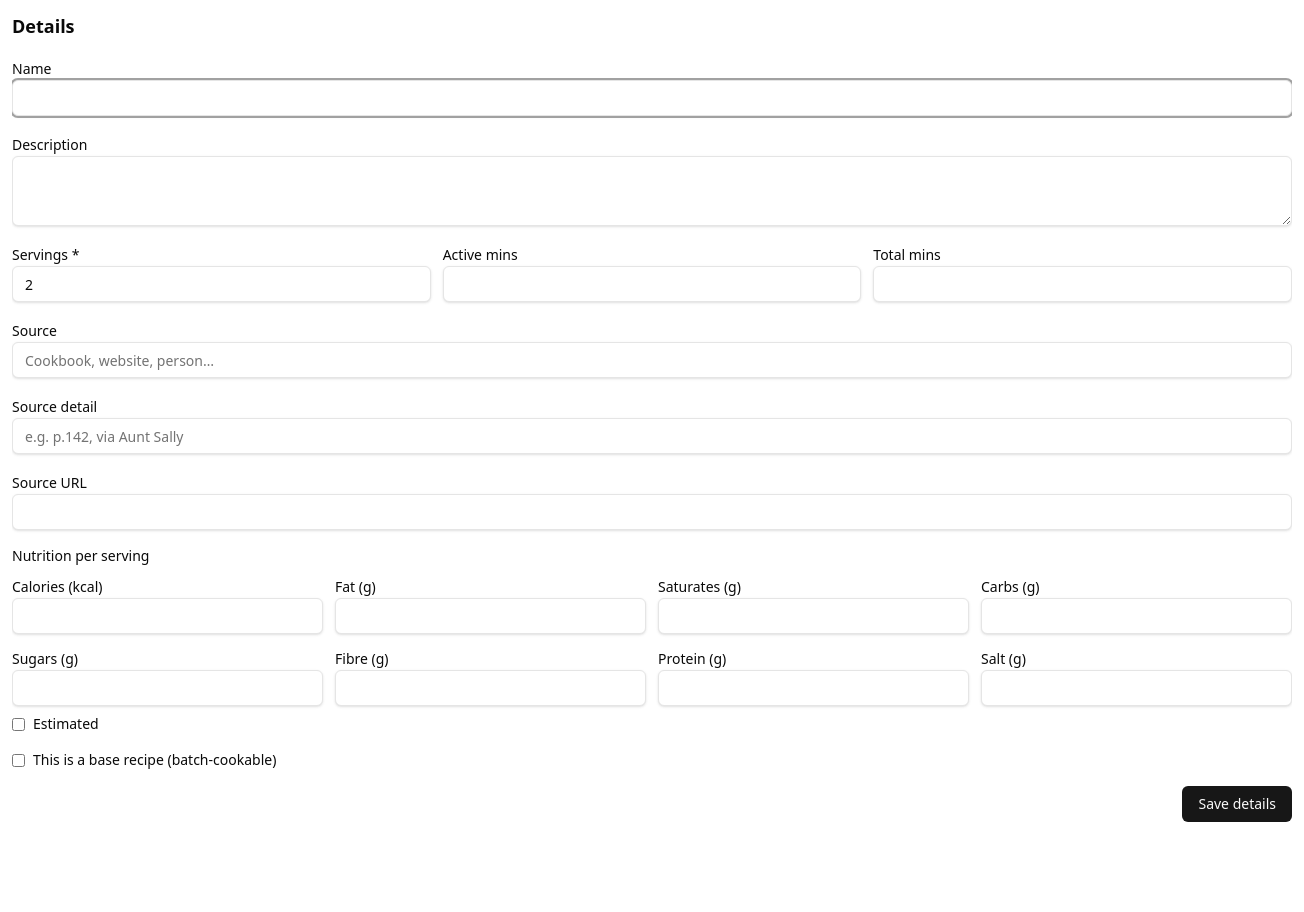
it: HeaderFields › blocks submit when a gram value has more than 2 decimal places
In the field labelled "Name": {"x": 652, "y": 98} [12, 80, 1292, 116], type "Lentil Dal"
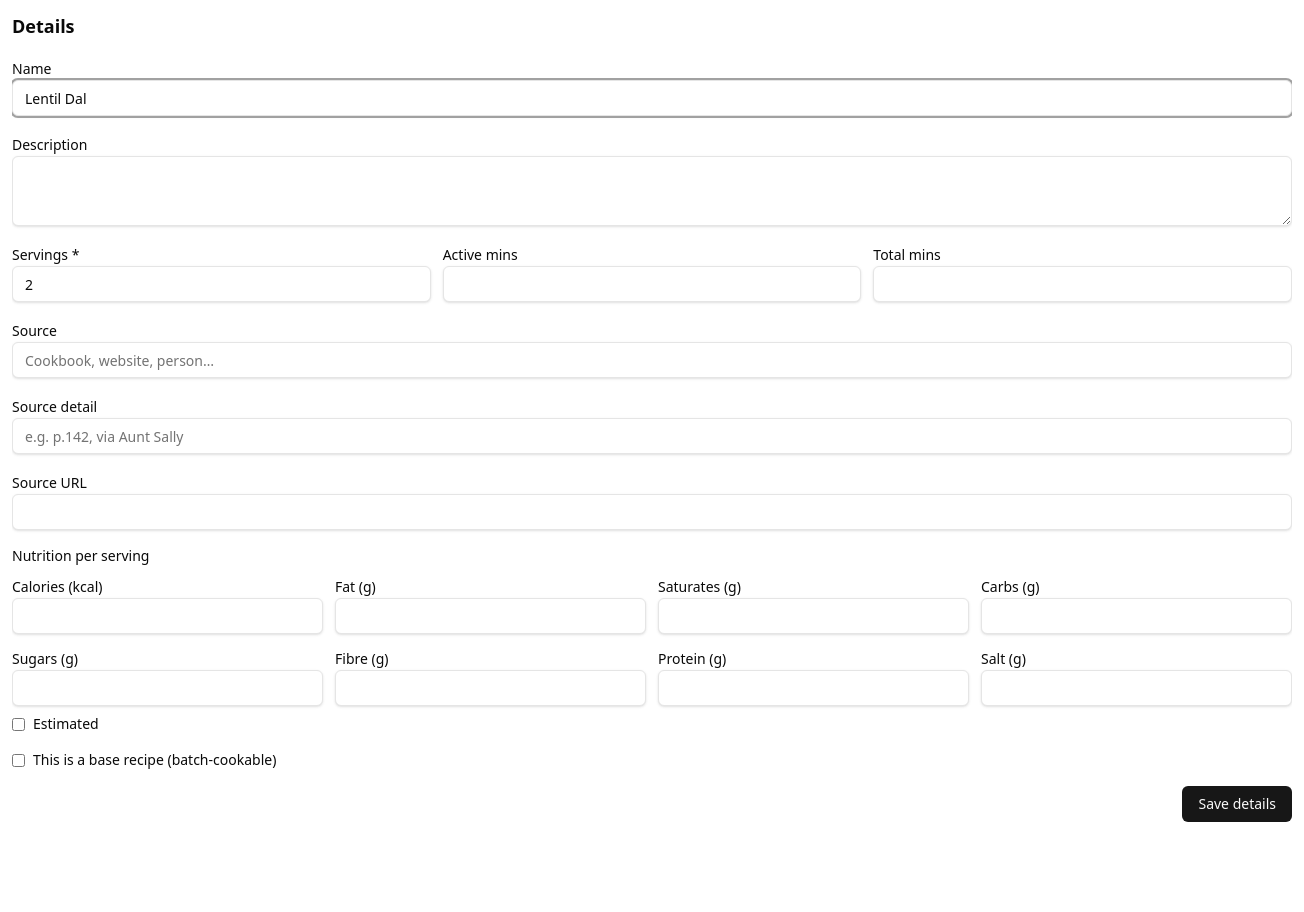
In the number field labelled "Salt (g)": {"x": 1136, "y": 688} [981, 670, 1292, 706], type "0.125"
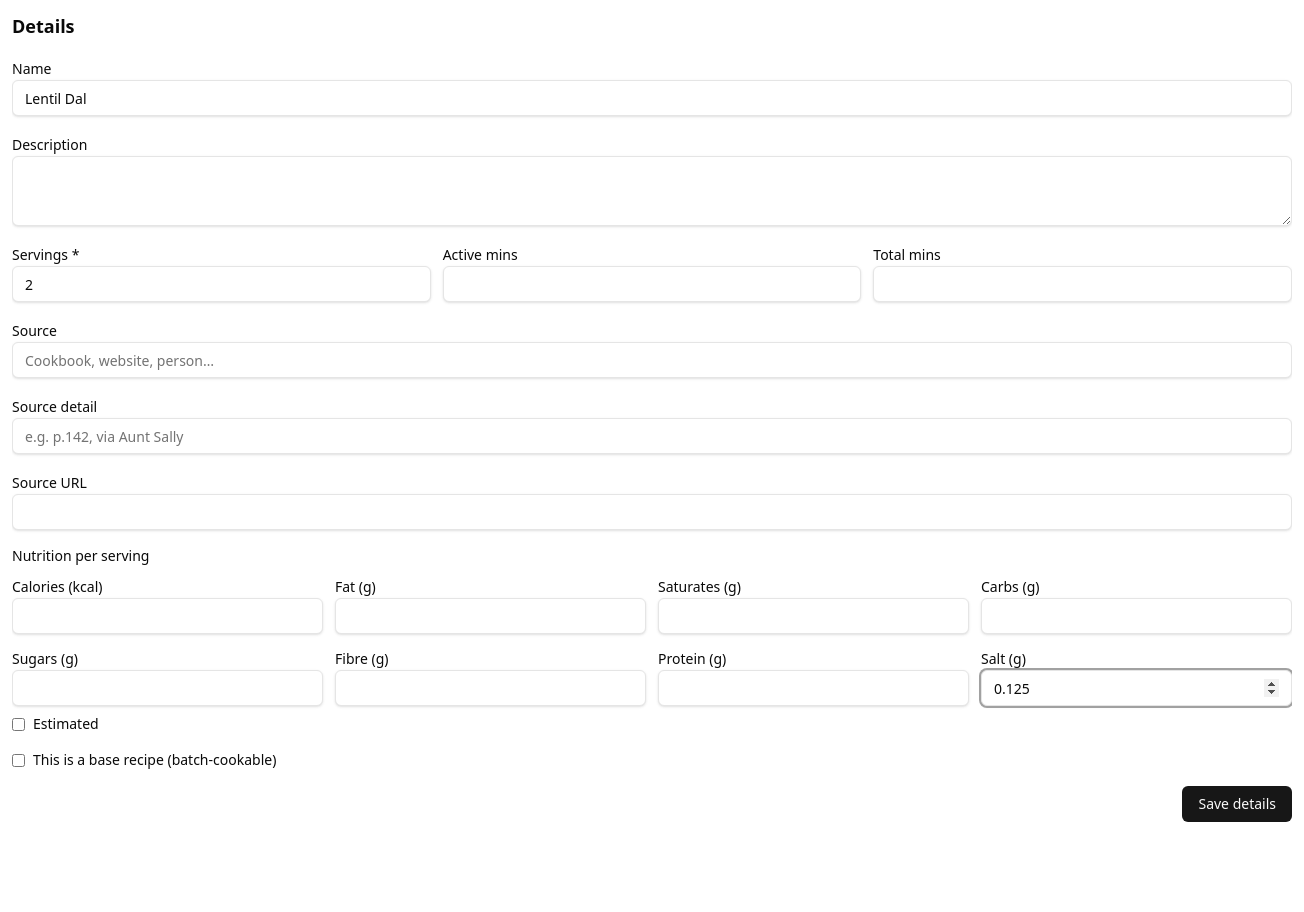
Click the button "Save details": {"x": 1237, "y": 804} [1182, 786, 1292, 822]
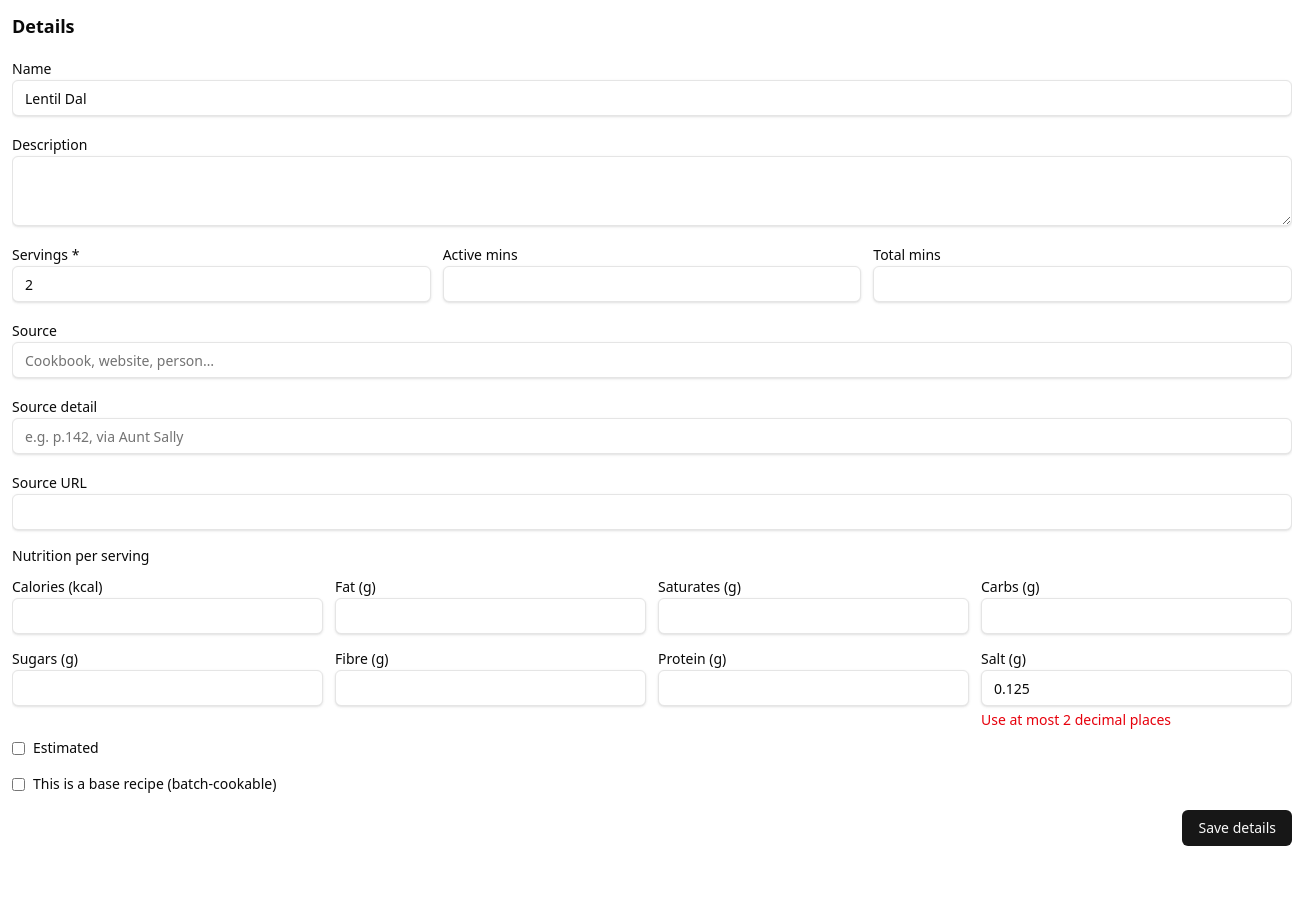
Check: the text "Use at most 2 decimal places" is shown, box [981, 710, 1171, 729]
